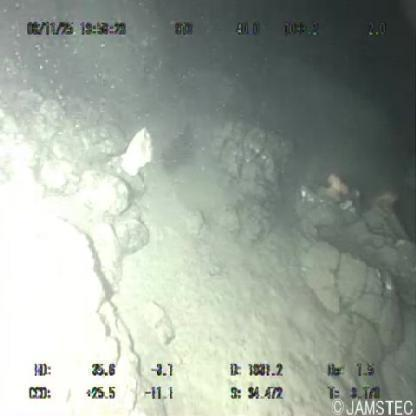Rác: (122, 127, 154, 178)
